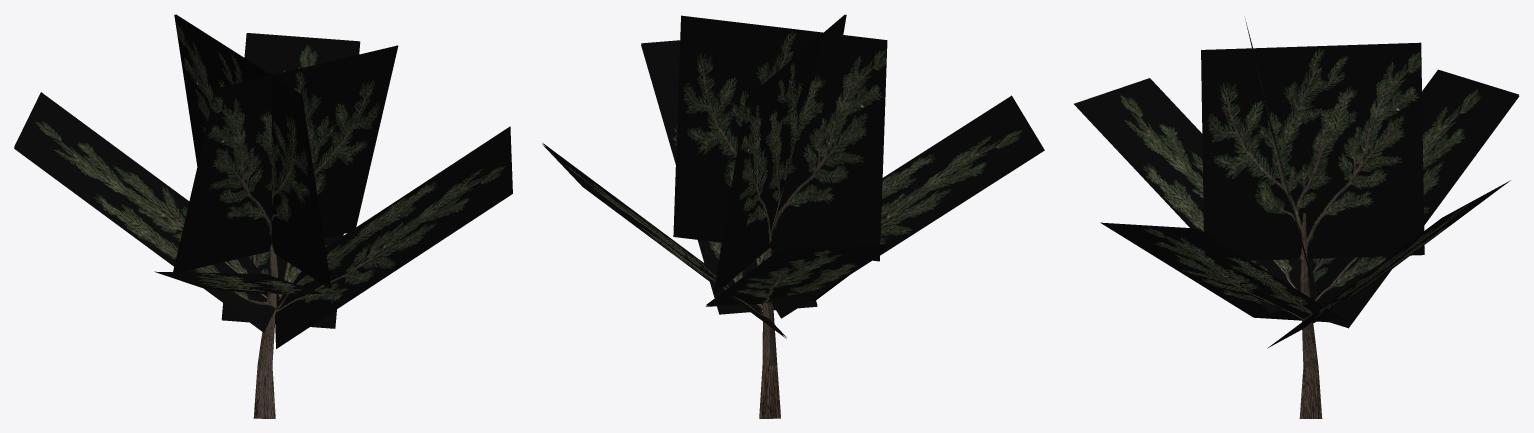
Rendered from mtns_shrb_evergreen_a1_l2.fbx.
The picture shows the model from 3 angles, left to right: view 1: azimuth 30°, elevation 25°; view 2: azimuth 150°, elevation 25°; view 3: azimuth 270°, elevation 25°; orthographic projection. The views are drawn at different scales.
Parts seen in each view (by area): view 1: mesh_node; view 2: mesh_node; view 3: mesh_node.
Boxes of the visible parts, <box> form: mesh_node: <box>14,14,512,418</box>; mesh_node: <box>542,14,1044,418</box>; mesh_node: <box>1074,18,1519,418</box>.
Size of the model in its own units: 4.38 by 4.09 by 4.56.
